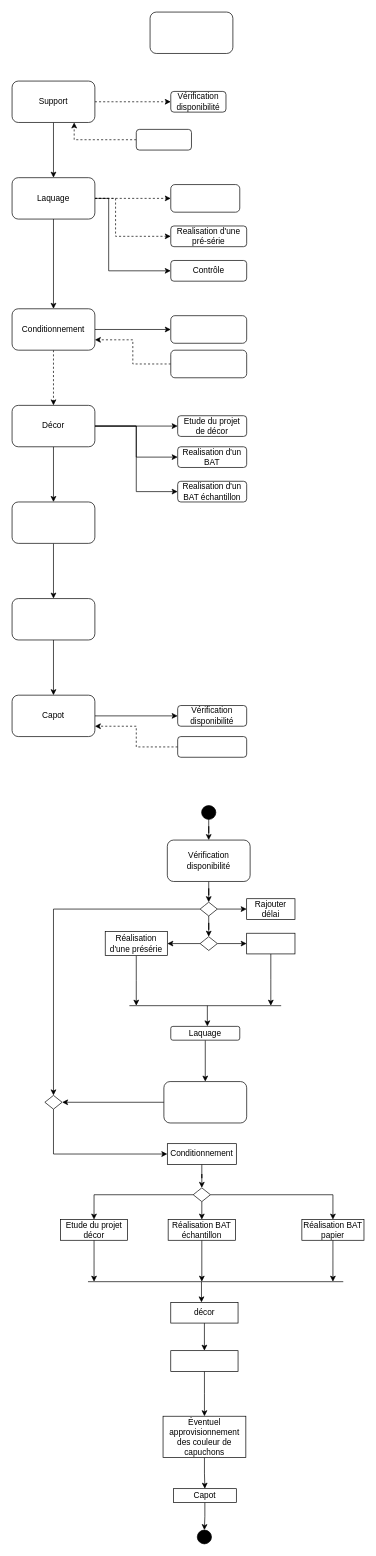
The diagram is 376 pixels wide and 1556 high, and some of its shapes have lost their labels. Here are the shapes that lost their labels. From the top down, the centre of each, then its label:
At (x=191, y=32): "Commande Complexe".
At (x=163, y=139): "Rajout délai".
At (x=205, y=198): "Realisation de prototypes".
At (x=208, y=329): "Simple emballage".
At (x=208, y=363): "Reconditionnement en sachet".
At (x=53, y=522): "Couper des tubes".
At (x=53, y=619): "Eventuel approvisionnement des couleurs de capuchons".
At (x=212, y=746): "Teinter la résine".
At (x=270, y=943): "Réalisation de prototype".
At (x=205, y=1102): "Décapage à l'acide".
At (x=204, y=1360): "Coupure de tubes".
